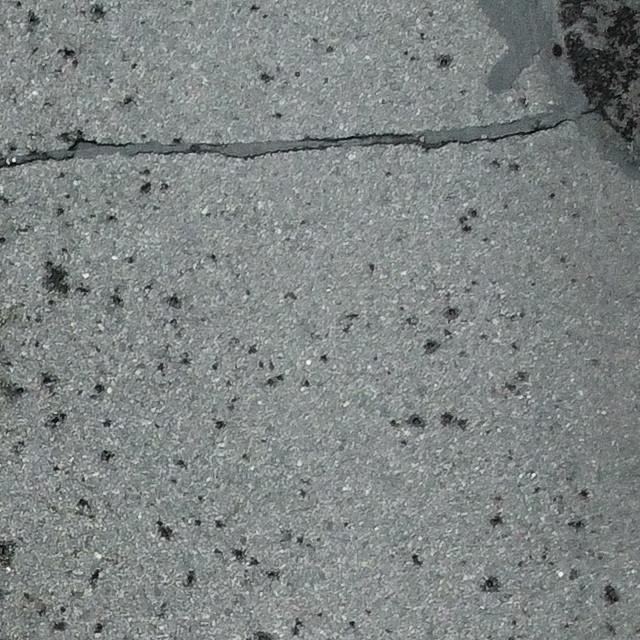TransverseCrack: (1, 107, 566, 167)
